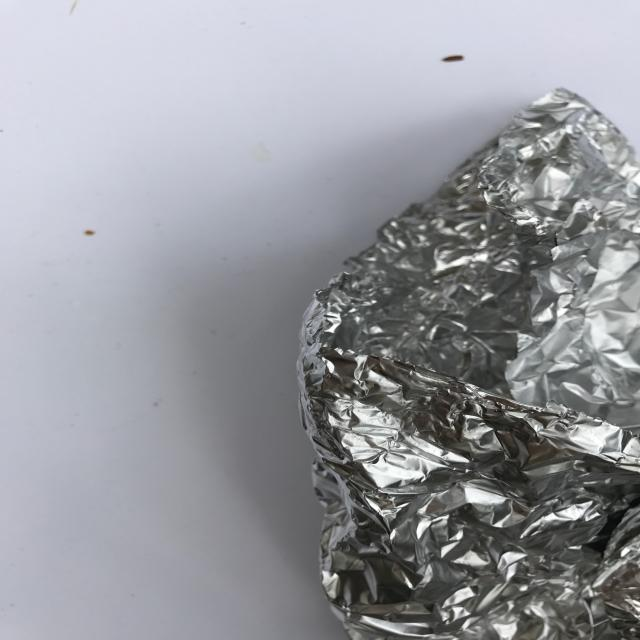metal: (296, 86, 638, 639)
